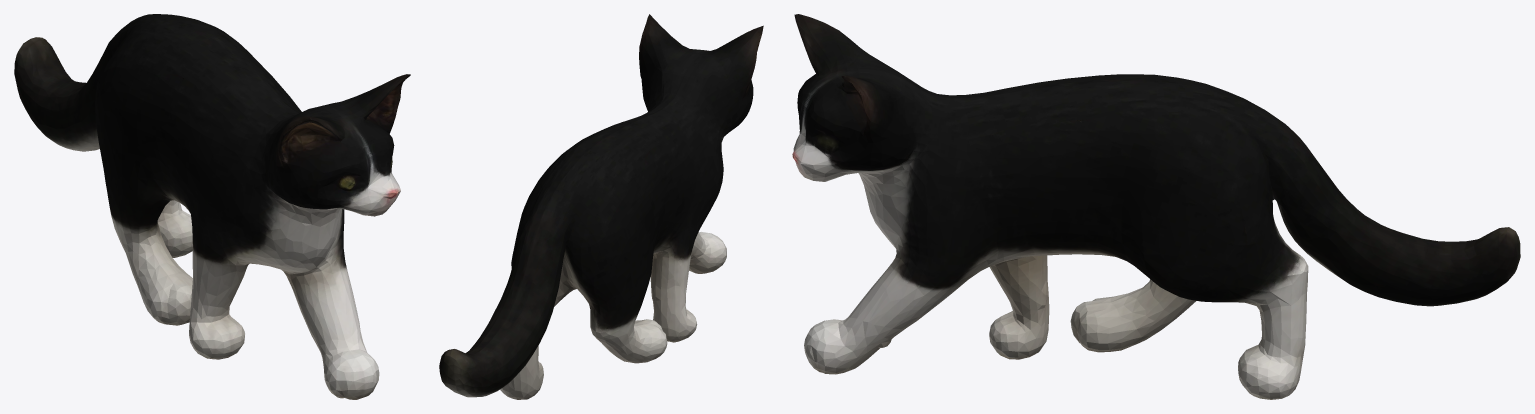
3 renders of one model, left to right at view 1: azimuth 30°, elevation 25°; view 2: azimuth 150°, elevation 25°; view 3: azimuth 270°, elevation 25°, orthographic. The views are drawn at different scales.
Parts seen in each view (by area): view 1: geometry_0; view 2: geometry_0; view 3: geometry_0.
Part boxes in pixels (<box>): geometry_0: <box>14,14,410,399</box>; geometry_0: <box>439,14,763,399</box>; geometry_0: <box>792,14,1520,399</box>.
Bounding box in the file's own units: 0.2447 × 0.5141 × 0.9983.
Materials: 1 (1 with a texture image).
